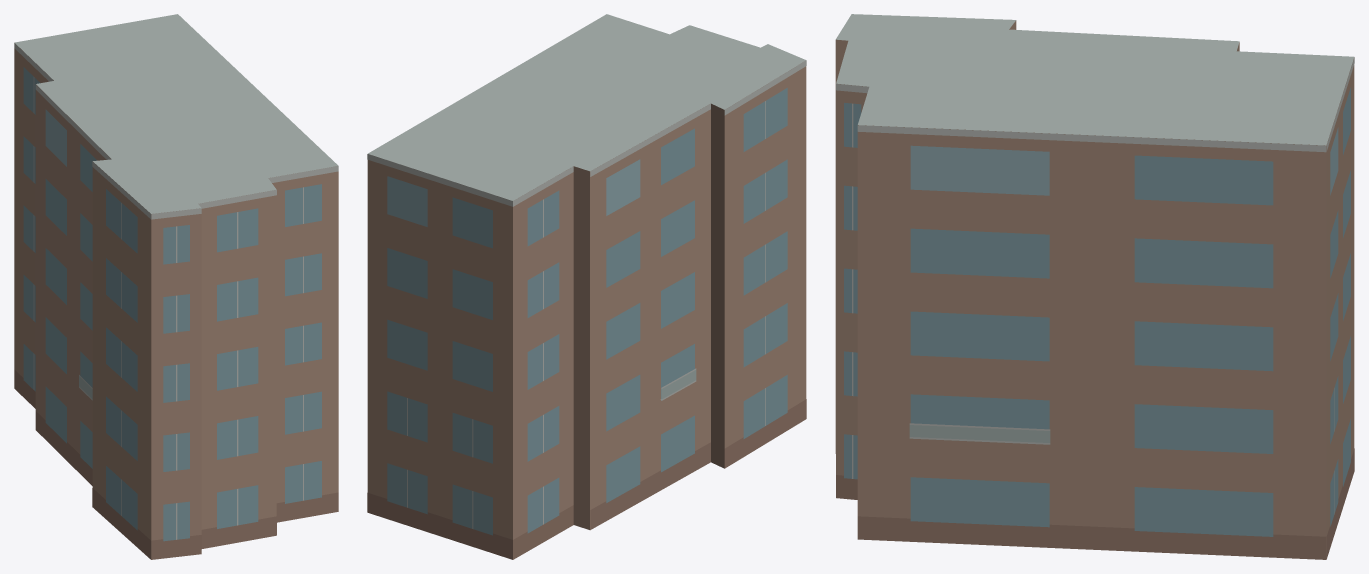
Rendered from survey-upis-32977718.glb.
3 views of the same model, side by side, from view 1: azimuth 30°, elevation 25°; view 2: azimuth 150°, elevation 25°; view 3: azimuth 270°, elevation 25° (orthographic). The views are drawn at different scales.
Parts seen in each view (by area): view 1: survey-upis-32977718.tmp; view 2: survey-upis-32977718.tmp; view 3: survey-upis-32977718.tmp.
Part boxes in pixels (x1,y1,x2,y2): survey-upis-32977718.tmp: (14, 14, 338, 559); survey-upis-32977718.tmp: (367, 14, 806, 559); survey-upis-32977718.tmp: (835, 14, 1354, 559).
Bounding box in the file's own units: 10.22 × 15 × 17.03.
